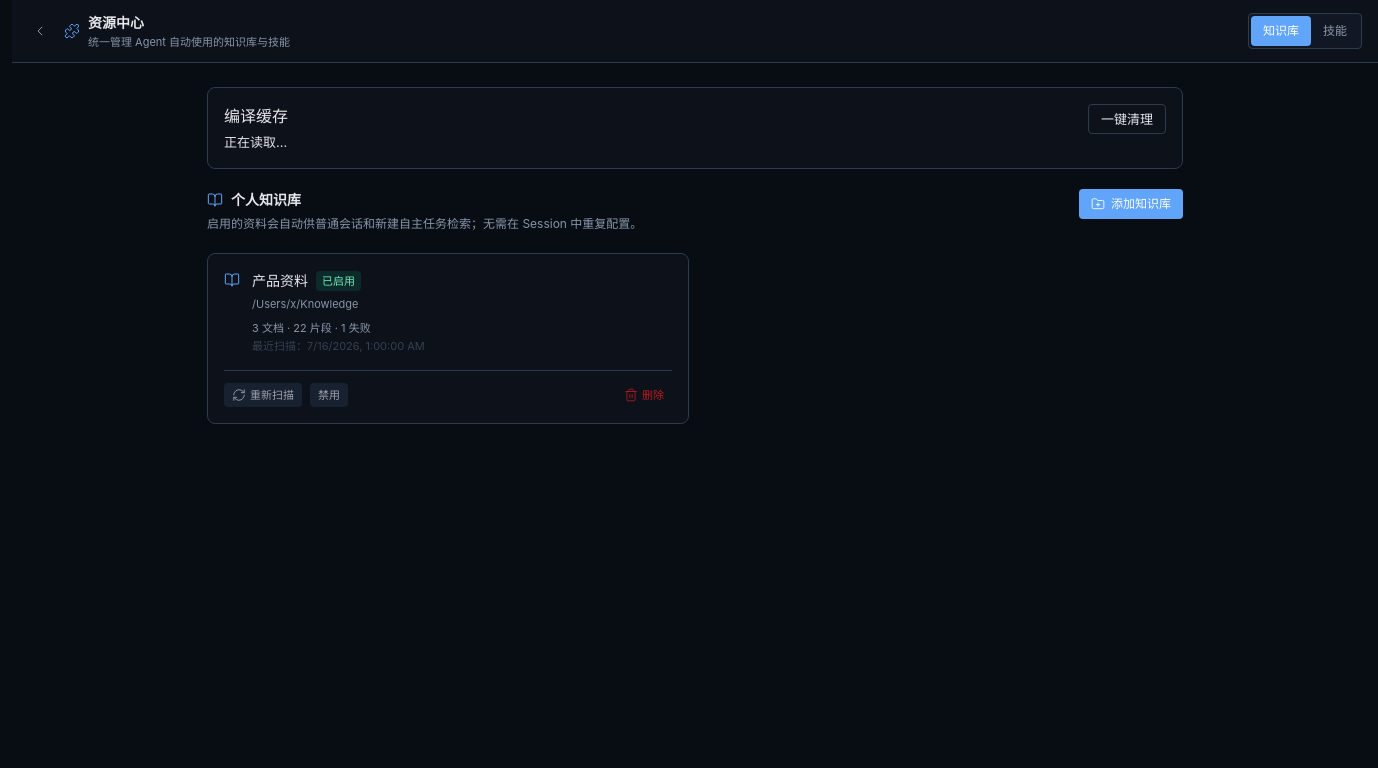
ResourcesPage › adds a local folder and exposes the skills manager as a backend tab
What coordinates should you click on to do the following:
click the button "添加知识库"
I would click on:
 (1131, 204)
Its box is left=1079, top=189, right=1183, bottom=219.
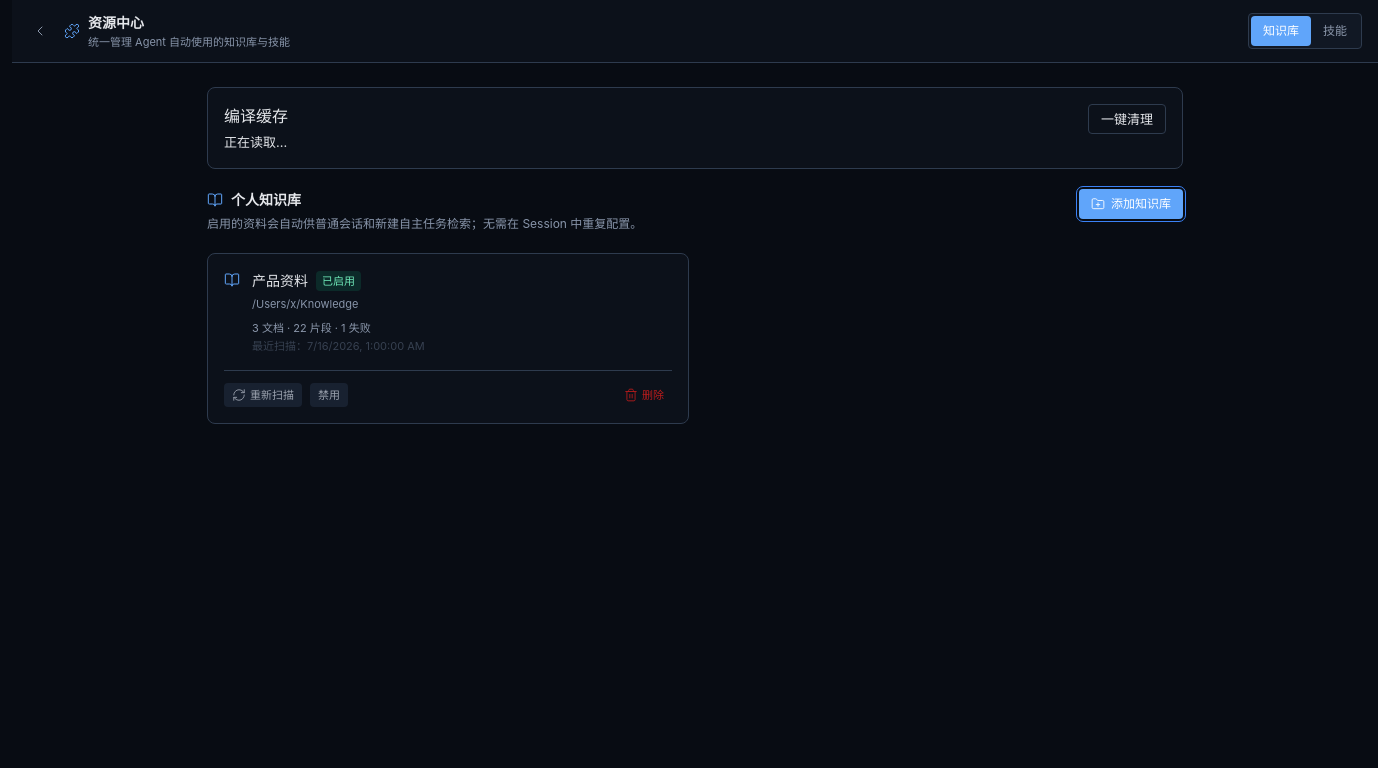
What coordinates should you click on to do the following:
click the tab "技能"
I would click on:
 (1335, 31)
Its box is left=1311, top=16, right=1359, bottom=46.
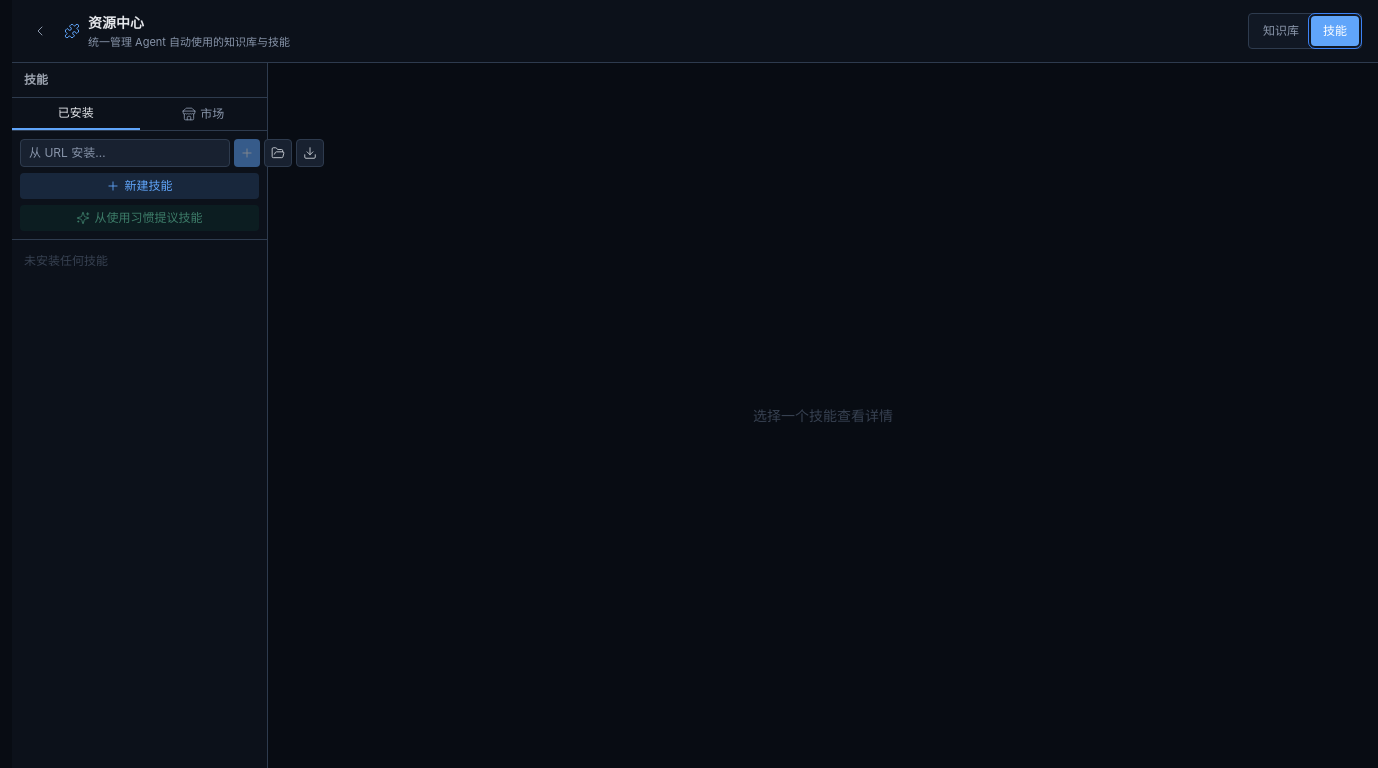
Result: the button "已安装" is shown at left=12, top=98, right=140, bottom=130
Result: the button "市场" is shown at left=140, top=98, right=267, bottom=130
